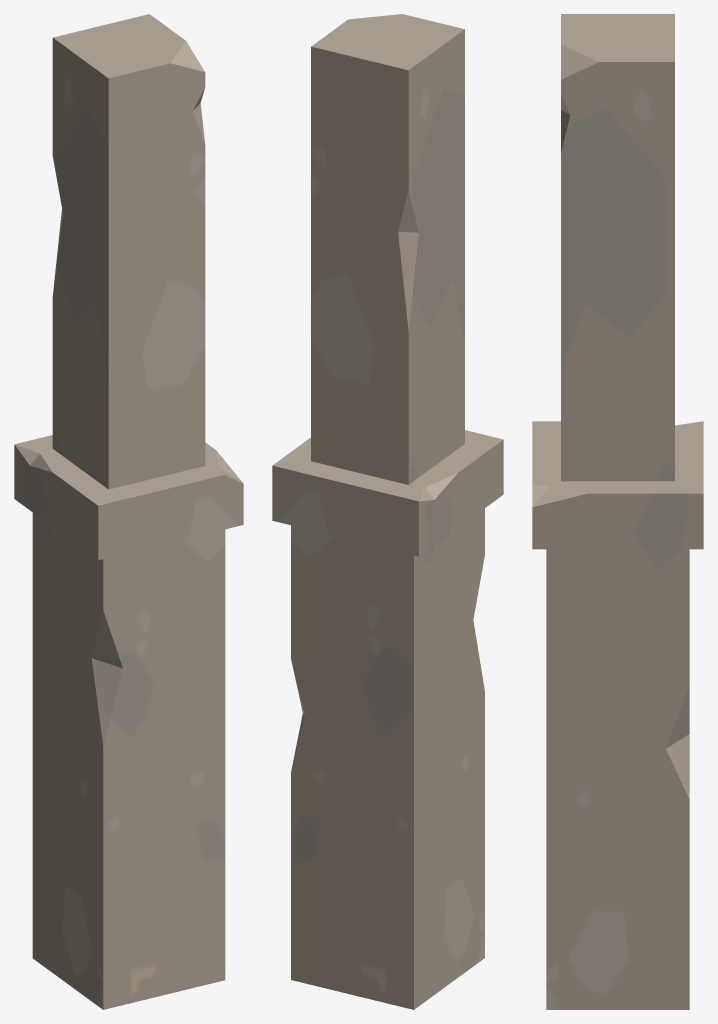
Rendered from SM_Bld_Village_Archway_Pillar_01.glb.
3 views of the same model, side by side, from view 1: azimuth 30°, elevation 25°; view 2: azimuth 150°, elevation 25°; view 3: azimuth 270°, elevation 25° (orthographic).
Parts seen in each view (by area): view 1: SM_Bld_Village_Archway_Pillar_01; view 2: SM_Bld_Village_Archway_Pillar_01; view 3: SM_Bld_Village_Archway_Pillar_01.
Boxes of the visible parts, x1,y1,x2,y2 form: SM_Bld_Village_Archway_Pillar_01: (14,14,243,1009); SM_Bld_Village_Archway_Pillar_01: (272,14,503,1009); SM_Bld_Village_Archway_Pillar_01: (532,14,703,1009).
Size of the model in its own units: 0.7077 by 4.29 by 0.7077.
Materials: 1 (1 with a texture image).
